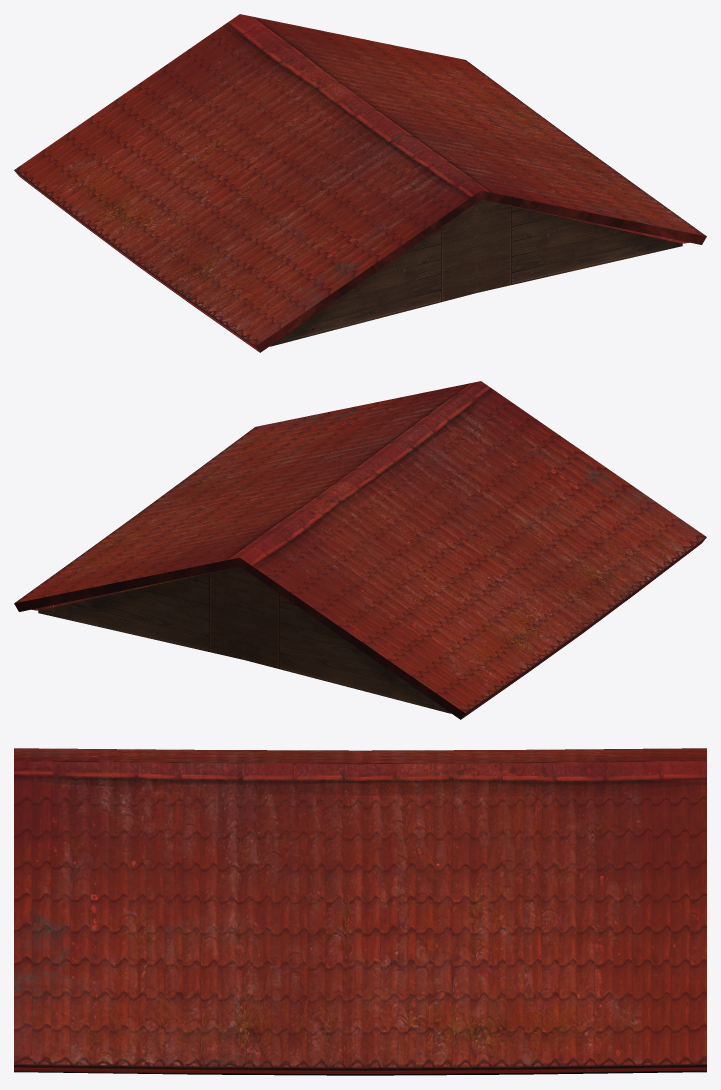
The model's file is Roof_Straight.fbx.
The picture shows the model from 3 angles, top to bottom: view 1: azimuth 30°, elevation 25°; view 2: azimuth 150°, elevation 25°; view 3: azimuth 270°, elevation 25°; orthographic projection. The views are drawn at different scales.
Visible parts, largest first — view 1: polySurface206; view 2: polySurface206; view 3: polySurface206.
Boxes of the visible parts, x1,y1,x2,y2 form: polySurface206: (14,14,706,352); polySurface206: (14,381,706,719); polySurface206: (14,748,706,1075).
Bounding box in the file's own units: 469 × 109 × 432.
